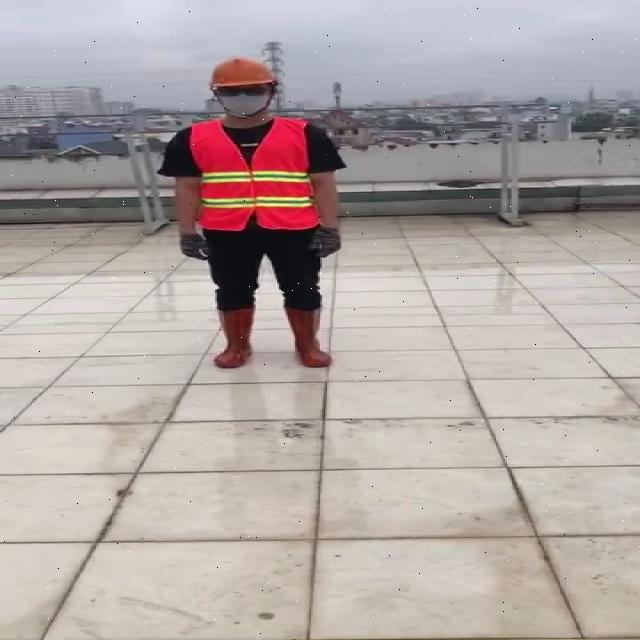Hard_hat: (201, 54, 284, 98)
Vest: (189, 112, 316, 233)
